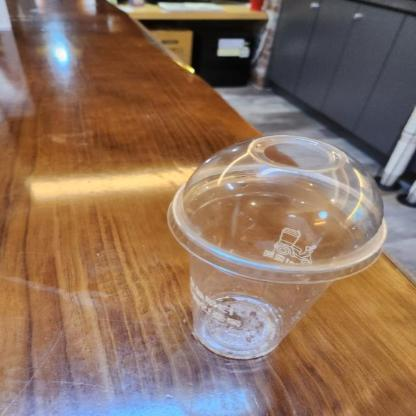Plastic Cup: (168, 128, 388, 288)
